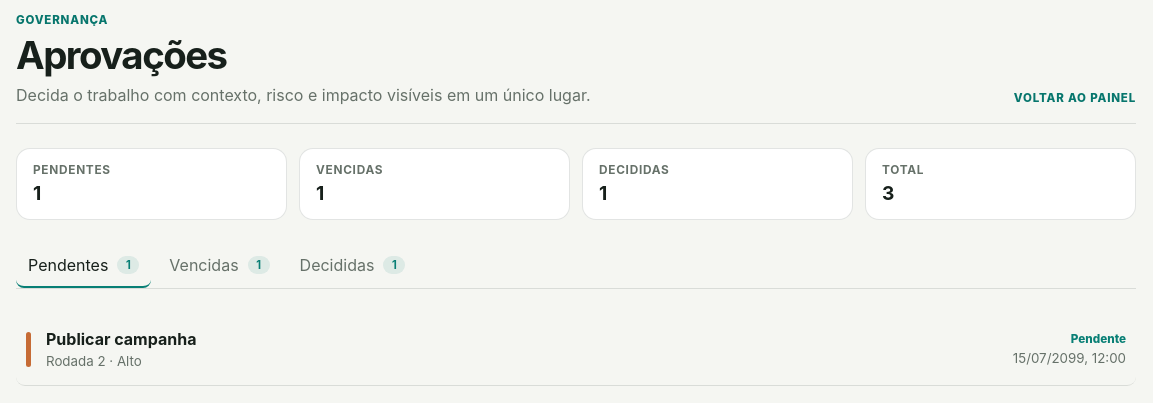
Test: ApprovalsWorkspace › separates pending, overdue and decided approvals using real response fields
Expected: the text "Publicar campanha" is shown, [46,329,196,349]
Expected: the text "Liberar dados" is not shown
Click the button "Vencidas 1".
click(219, 266)  # box [157,244,282,288]
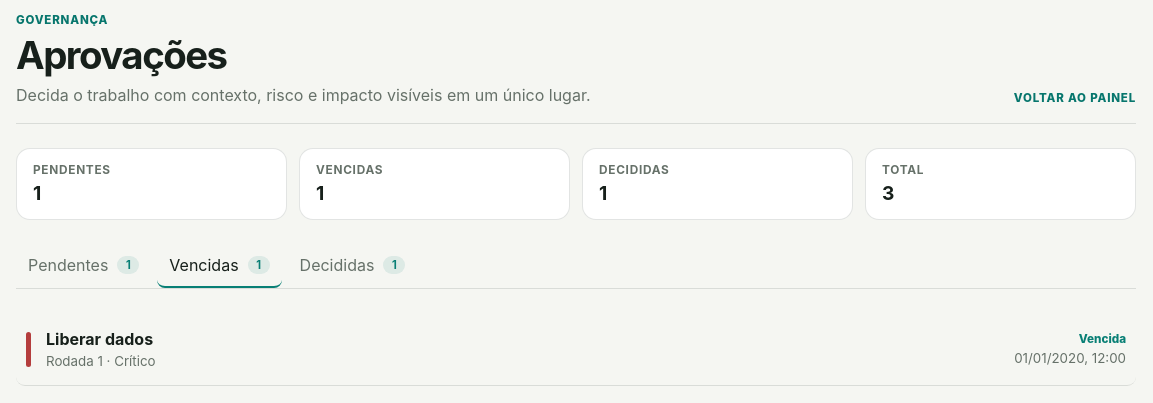
Expected: the text "Liberar dados" is shown, [46,329,153,349]
Click the button "Decididas 1".
click(352, 266)  # box [288,244,417,288]
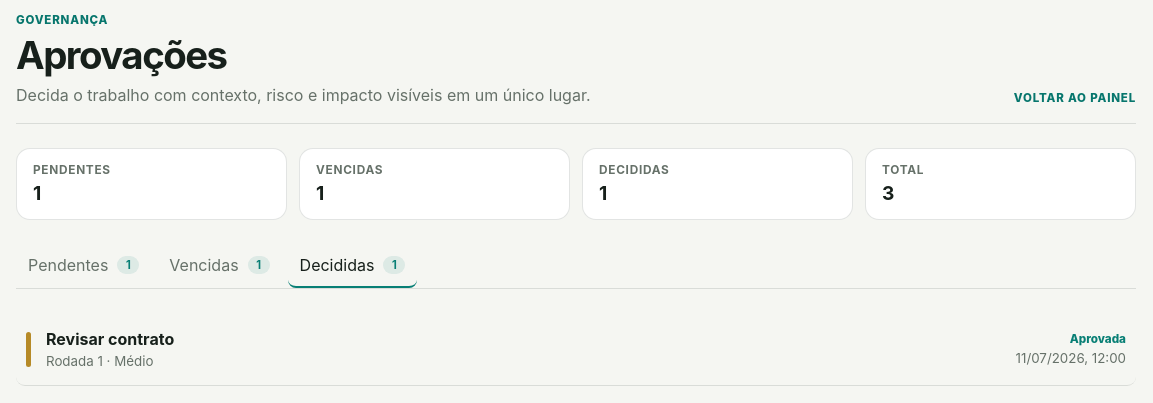
Expected: the text "Revisar contrato" is shown, [46,329,174,349]
